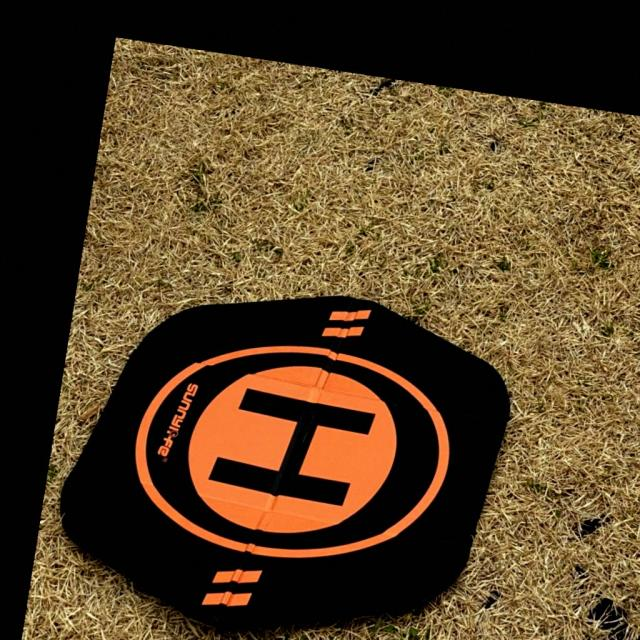helipad: (130, 341, 454, 561)
